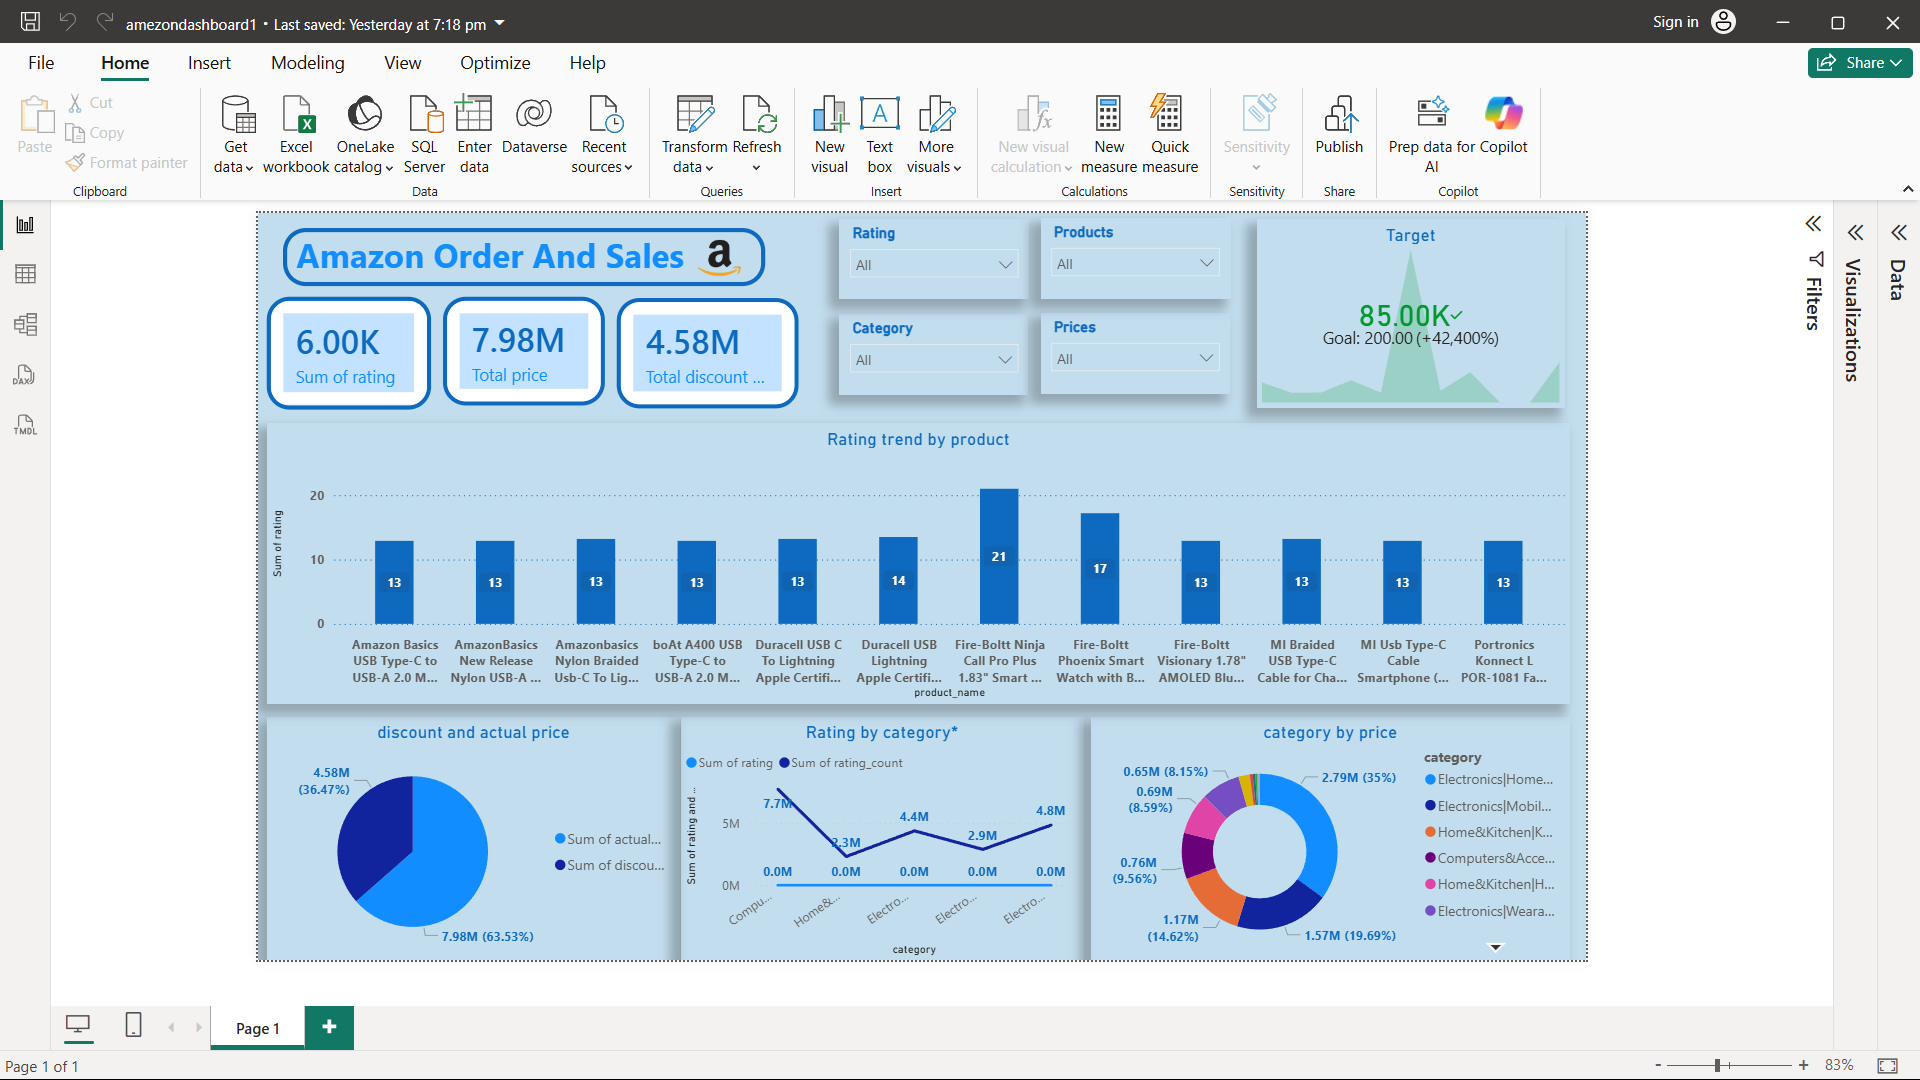

The page's visual inventory and layout, read from the dashboard file:
{"tool":"powerbi","page":{"name":"Page 1","canvas":[1280,720],"ordinal":0},"visuals":[{"type":"textbox","box":[23.8,15,465,56.2],"z":0},{"type":"cardVisual","fields":{"Data":["Sum(amazon.rating)"]},"box":[8.8,81.2,158.8,108.8],"z":1000},{"type":"cardVisual","fields":{"Data":["Sum(amazon.actual_price)"]},"box":[178.8,81.2,156.2,105],"z":2000},{"type":"cardVisual","fields":{"Data":["Sum(amazon.discounted_price)"]},"box":[345.7,81.5,175.3,106.2],"z":3000},{"type":"donutChart","title":"category by price","fields":{"Category":["amazon.category"],"Y":["Sum(amazon.actual_price)"]},"box":[802.5,485,462.5,235],"z":4000},{"type":"ribbonChart","title":"Rating trend by product","fields":{"Category":["amazon.product_name"],"Y":["Sum(amazon.rating)"]},"box":[8.8,202.5,1256.2,270],"z":5000},{"type":"pieChart","title":"discount and actual price","fields":{"Y":["Sum(amazon.actual_price)","Sum(amazon.discounted_price)"]},"box":[8.8,485,398.8,235],"z":6000},{"type":"lineChart","title":"Rating by category*","fields":{"Y":["Sum(amazon.rating)","Sum(amazon.rating_count)"],"Category":["amazon.category"]},"box":[407.5,485,388.8,235],"z":7000},{"type":"image","box":[388.8,21.2,111.2,43.8],"z":8000},{"type":"slicer","fields":{"Values":["amazon.category"]},"box":[560,97.5,182.5,77.5],"z":9000},{"type":"slicer","fields":{"Values":["amazon.user_name"]},"box":[753.8,96.2,182.5,77.5],"z":10000},{"type":"slicer","fields":{"Values":["amazon.product_name"]},"box":[753.9,5.3,182.9,77.6],"z":11000},{"type":"kpi","title":"Target","fields":{"Indicator":["Sum(amazon.actual_price)"],"TrendLine":["amazon.product_id"],"Goal":["amazon.target"]},"box":[962.9,5.7,297.1,181.4],"z":11001},{"type":"slicer","fields":{"Values":["amazon.rating"]},"box":[560,5.7,182.9,77.1],"z":11002}]}

Visuals, with their boxes on the page's 1280x720 design canvas (x1, y1, x2, y2). These are canvas units, not pixel positions in the 1920x1080 screenshot, which may show the page scaled, cropped or inside an application window:
textbox: region(24, 15, 489, 71)
cardVisual - Sum(amazon.rating): region(9, 81, 168, 190)
cardVisual - Sum(amazon.actual_price): region(179, 81, 335, 186)
cardVisual - Sum(amazon.discounted_price): region(346, 82, 521, 188)
"category by price" donutChart: region(802, 485, 1265, 720)
"Rating trend by product" ribbonChart: region(9, 202, 1265, 472)
"discount and actual price" pieChart: region(9, 485, 408, 720)
"Rating by category*" lineChart: region(408, 485, 796, 720)
image: region(389, 21, 500, 65)
slicer - amazon.category: region(560, 98, 742, 175)
slicer - amazon.user_name: region(754, 96, 936, 174)
slicer - amazon.product_name: region(754, 5, 937, 83)
"Target" kpi: region(963, 6, 1260, 187)
slicer - amazon.rating: region(560, 6, 743, 83)
